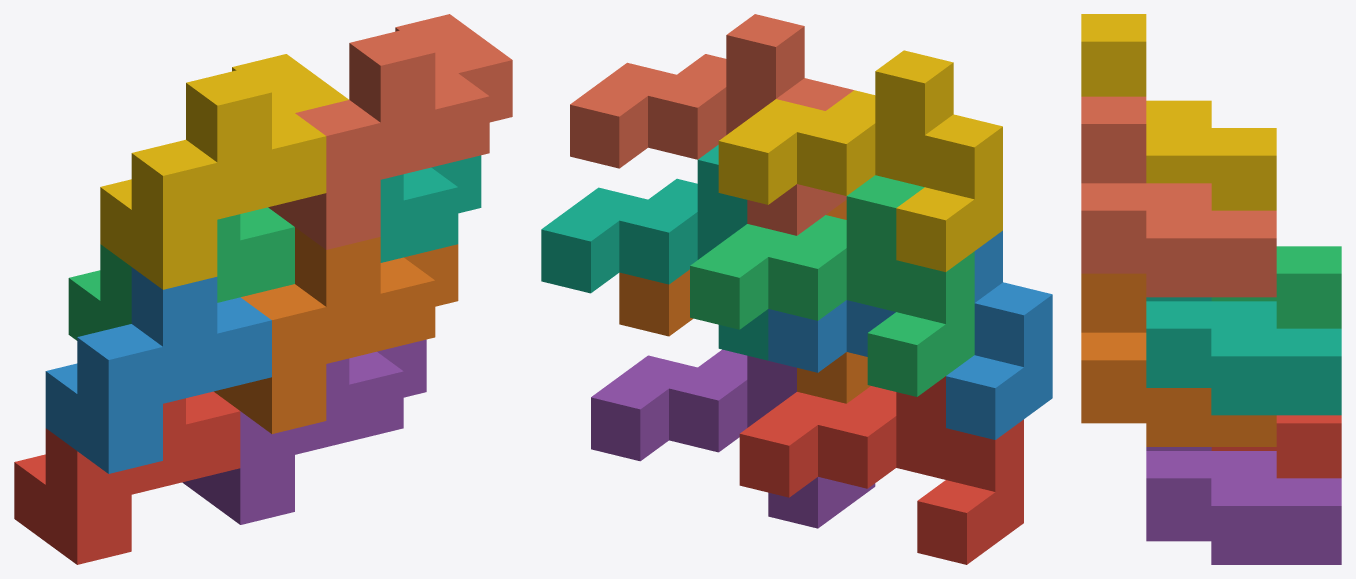
Rendered from tiling.obj.
3 views of the same model, side by side, from view 1: azimuth 30°, elevation 25°; view 2: azimuth 150°, elevation 25°; view 3: azimuth 270°, elevation 25° (orthographic). The views are drawn at different scales.
Visible parts, largest first — view 1: copy_1_domain_4, copy_1_domain_8, copy_1_domain_2, copy_1_domain_6, copy_1_domain_1, copy_1_domain_5, copy_1_domain_3, copy_1_domain_7; view 2: copy_1_domain_4, copy_1_domain_3, copy_1_domain_1, copy_1_domain_8, copy_1_domain_2, copy_1_domain_5, copy_1_domain_7, copy_1_domain_6; view 3: copy_1_domain_8, copy_1_domain_5, copy_1_domain_7, copy_1_domain_4, copy_1_domain_6, copy_1_domain_3, copy_1_domain_1.
Boxes of the visible parts, x1=… form: copy_1_domain_4: x1=100, y1=54, x2=348, y2=289; copy_1_domain_8: x1=268, y1=14, x2=512, y2=249; copy_1_domain_2: x1=45, y1=267, x2=271, y2=473; copy_1_domain_6: x1=214, y1=227, x2=458, y2=433; copy_1_domain_1: x1=14, y1=391, x2=240, y2=564; copy_1_domain_5: x1=182, y1=339, x2=426, y2=524; copy_1_domain_3: x1=68, y1=207, x2=294, y2=340; copy_1_domain_7: x1=380, y1=155, x2=481, y2=262; copy_1_domain_4: x1=718, y1=50, x2=1002, y2=272; copy_1_domain_3: x1=690, y1=175, x2=974, y2=396; copy_1_domain_1: x1=739, y1=376, x2=1023, y2=564; copy_1_domain_8: x1=570, y1=14, x2=853, y2=235; copy_1_domain_2: x1=768, y1=230, x2=1052, y2=439; copy_1_domain_5: x1=591, y1=349, x2=875, y2=528; copy_1_domain_7: x1=541, y1=145, x2=768, y2=360; copy_1_domain_6: x1=619, y1=200, x2=870, y2=403; copy_1_domain_8: x1=1081, y1=96, x2=1276, y2=297; copy_1_domain_5: x1=1146, y1=447, x2=1341, y2=564; copy_1_domain_7: x1=1146, y1=297, x2=1341, y2=415; copy_1_domain_4: x1=1081, y1=14, x2=1276, y2=210; copy_1_domain_6: x1=1081, y1=273, x2=1276, y2=446; copy_1_domain_3: x1=1211, y1=246, x2=1341, y2=328; copy_1_domain_1: x1=1211, y1=415, x2=1341, y2=478.
Size of the model in its own units: 8 by 8 by 4.
